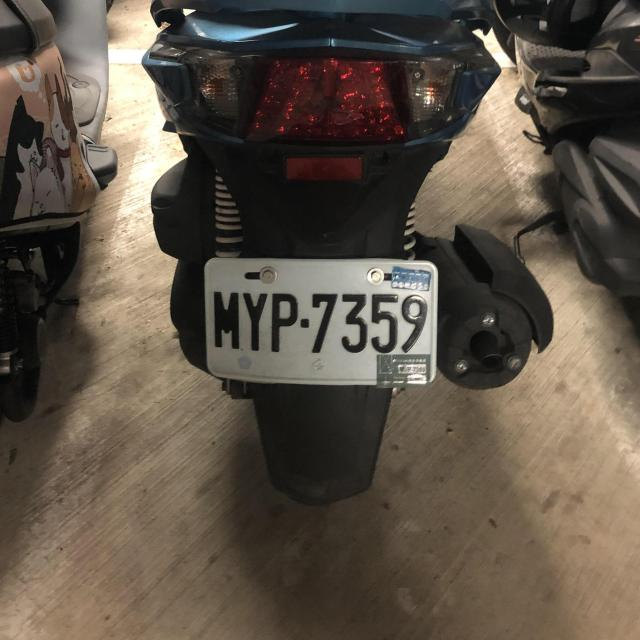W: (200, 252, 442, 391)
